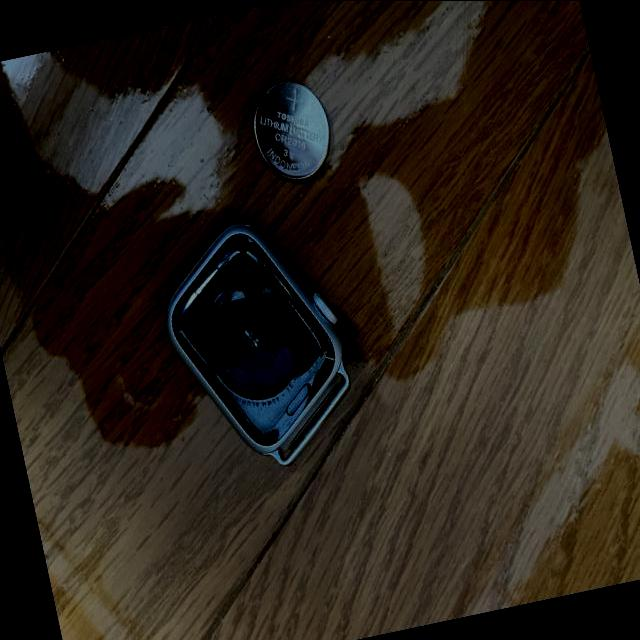COIN: (245, 74, 338, 187)
